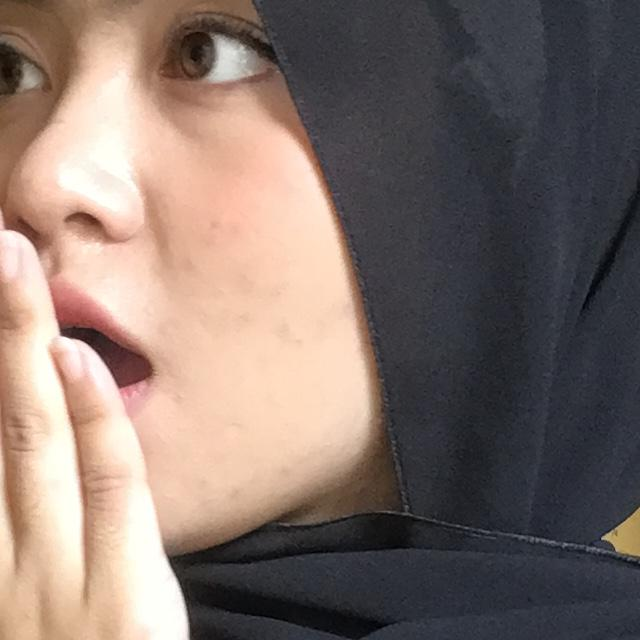ngantuk: (0, 136, 240, 640)
